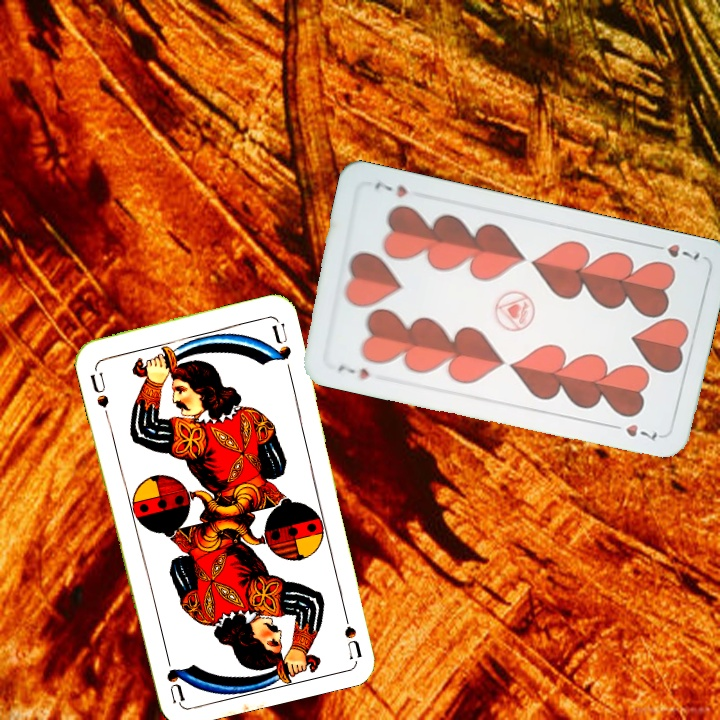H7: (646, 240, 703, 262), (333, 360, 372, 383)
SU: (338, 600, 364, 660), (86, 362, 112, 410)
